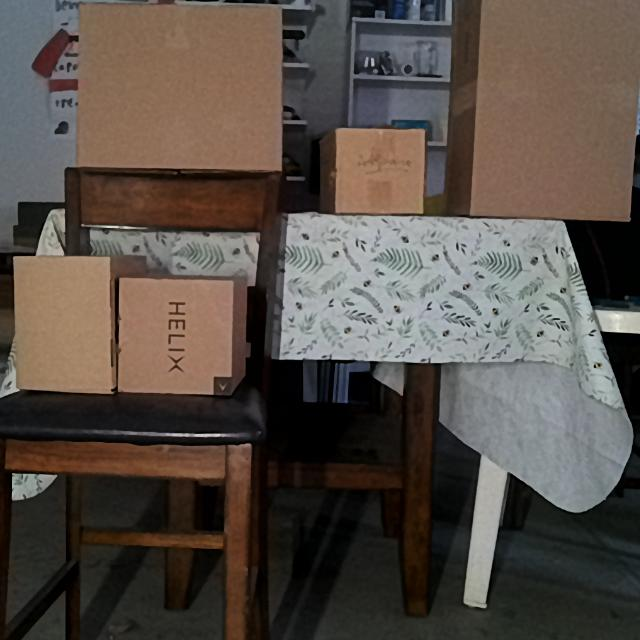box: (473, 0, 640, 215), (79, 3, 285, 168), (11, 258, 110, 392), (119, 278, 233, 392), (337, 129, 424, 214)
